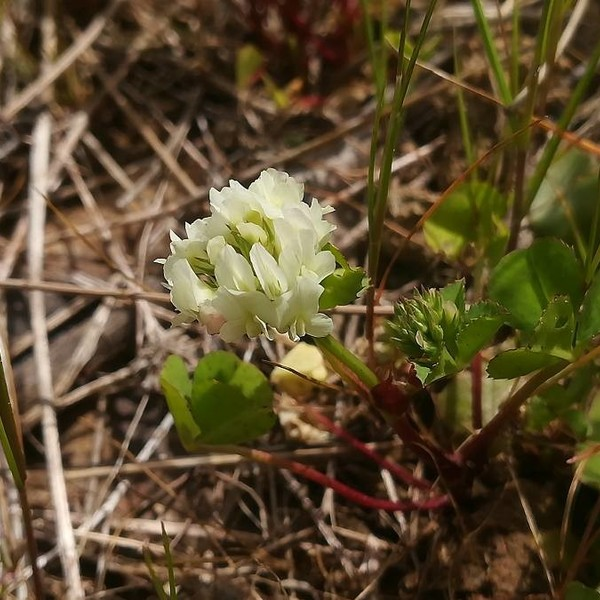obstacle: (90, 161, 569, 459)
